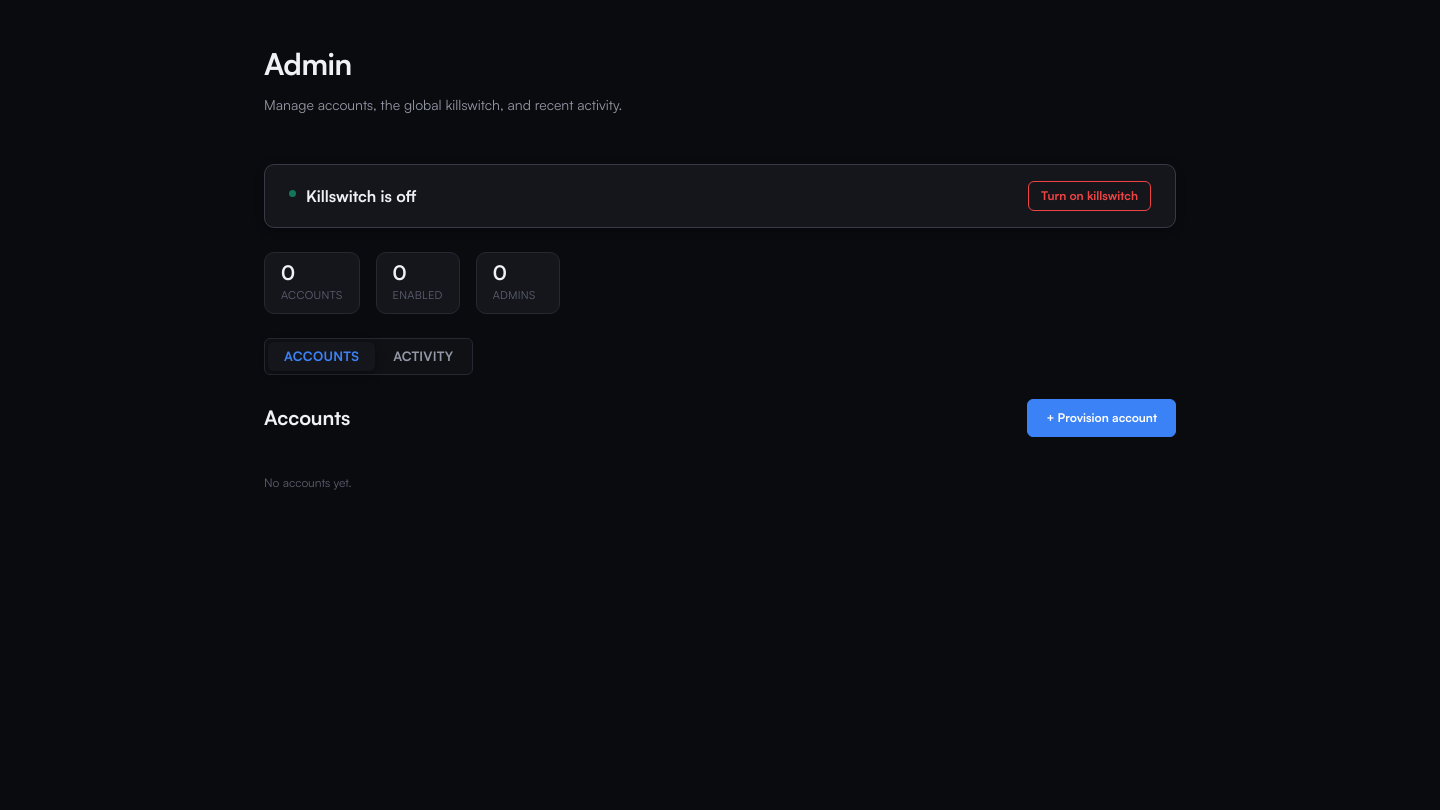
AdminView › opens the provision modal, submits it with the entered payload, and prepends the new account
The image size is (1440, 810).
Check: the text "No accounts yet." is shown, box [264, 475, 352, 490]
Click the button "+ Provision account" at (1102, 418), box [1028, 399, 1176, 437]
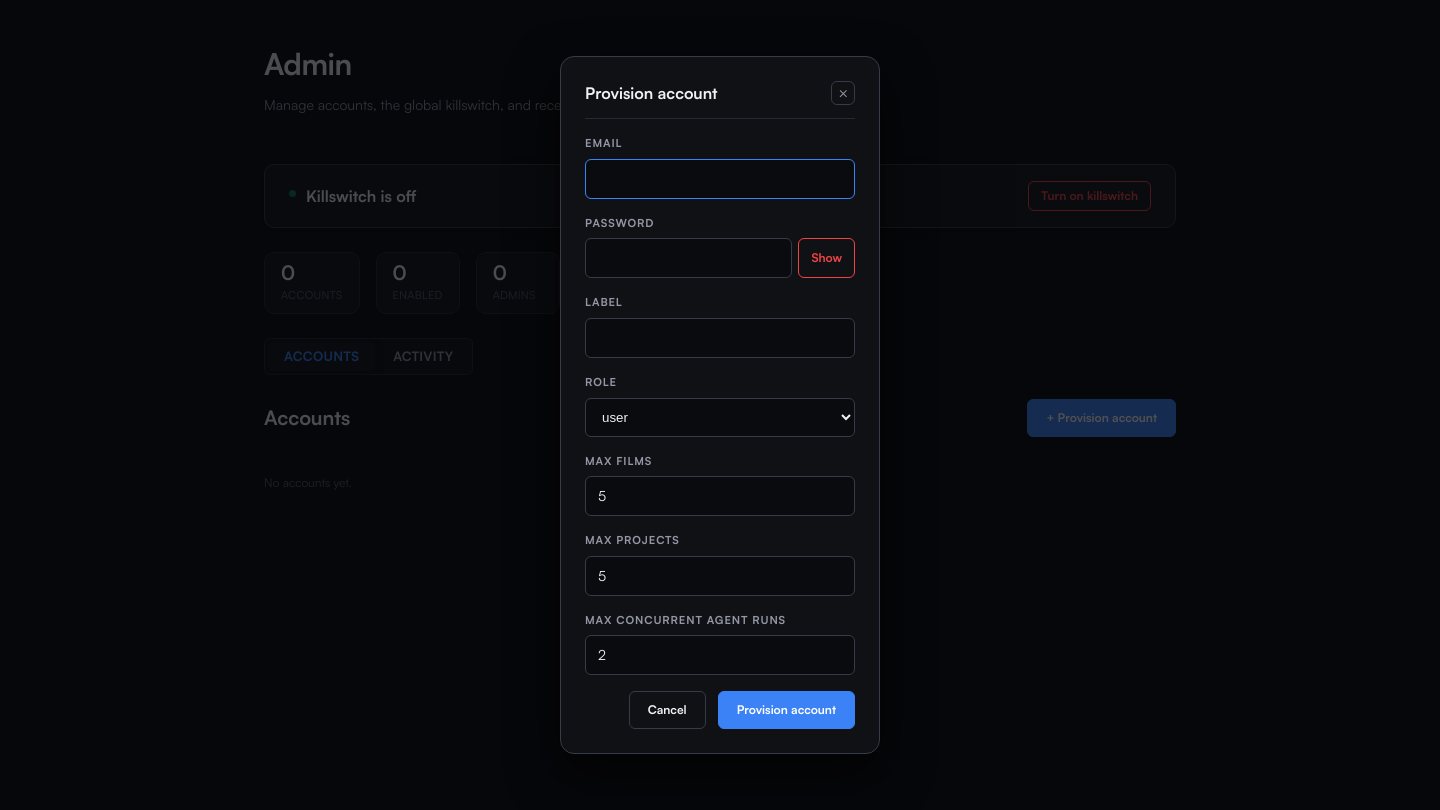
Type "bob@example.com" into the field labelled "Email" at (720, 179), box [585, 159, 855, 199]
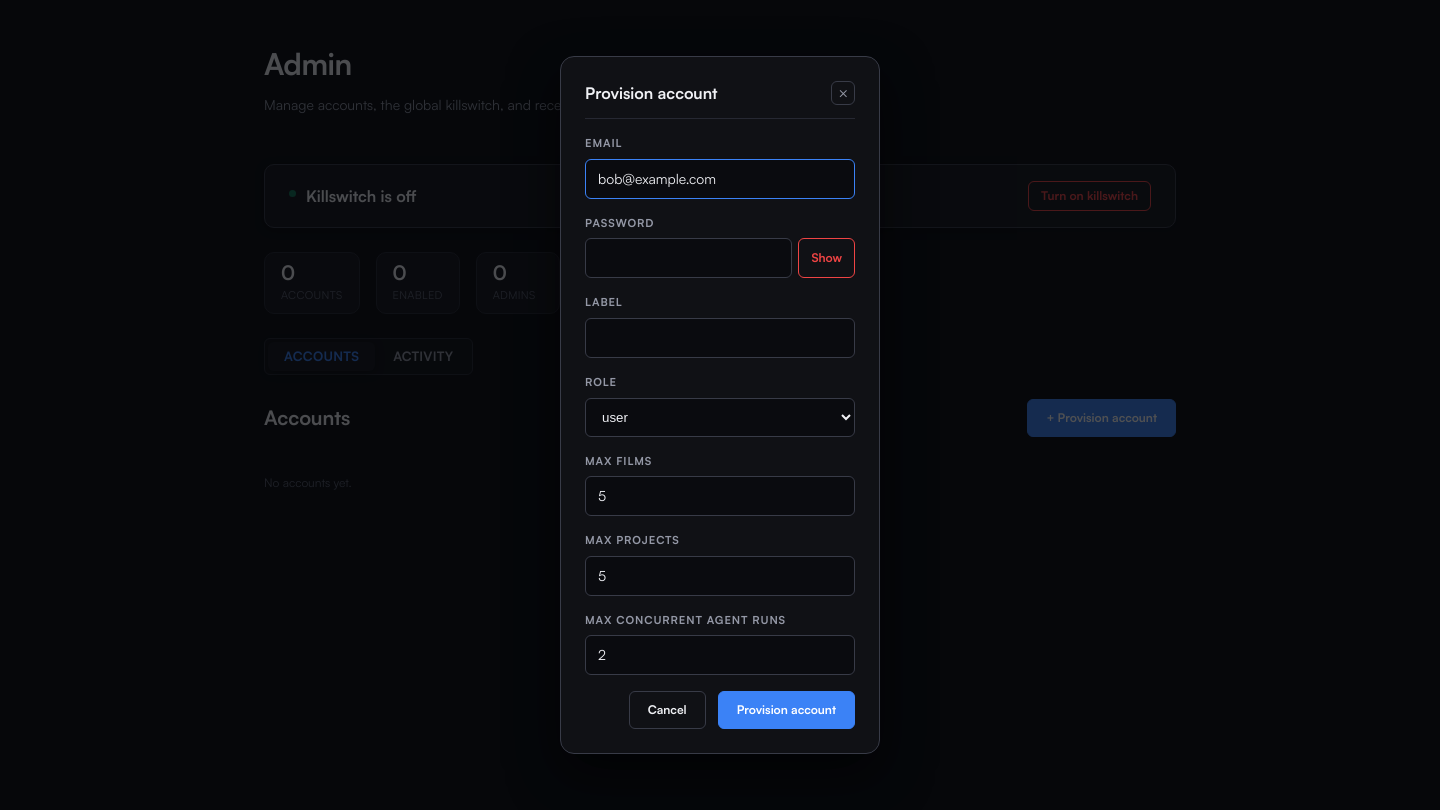
Type "hunter2" into the password field labelled "Password" at (689, 258), box [585, 238, 792, 278]
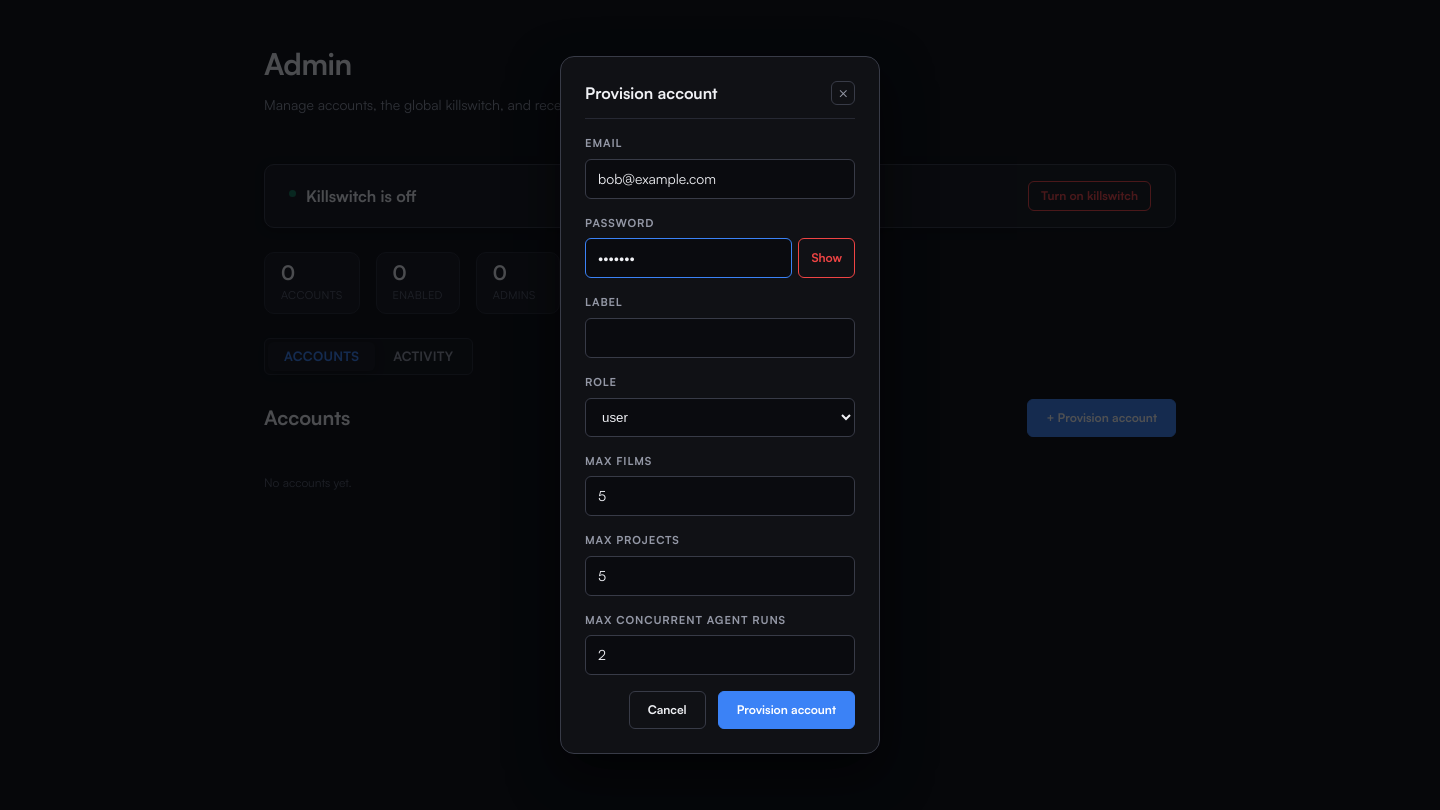
Type "Bob" into the field labelled "Label" at (720, 338), box [585, 318, 855, 358]
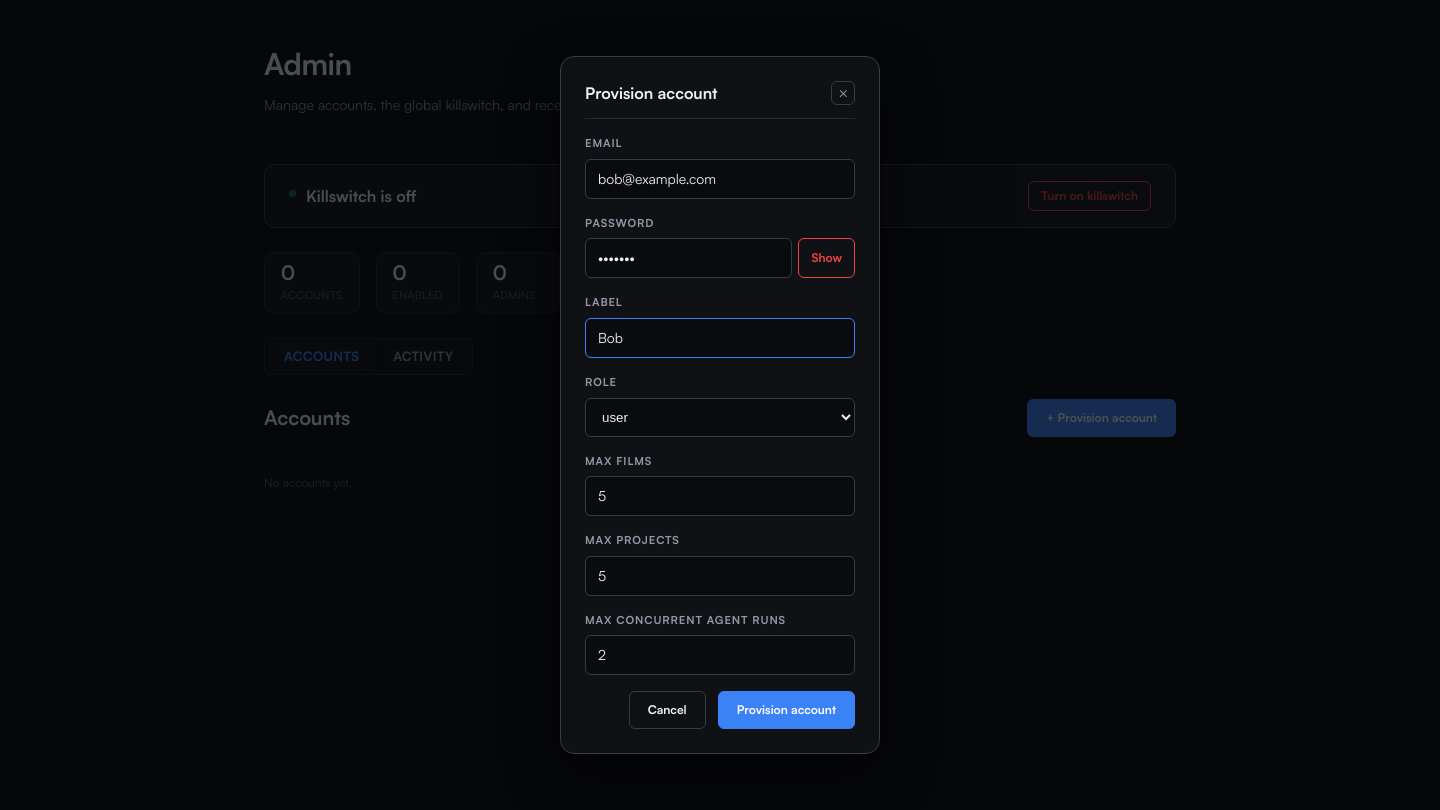
Select "admin" in the dropdown labelled "Role" at (720, 417), box [585, 398, 855, 437]
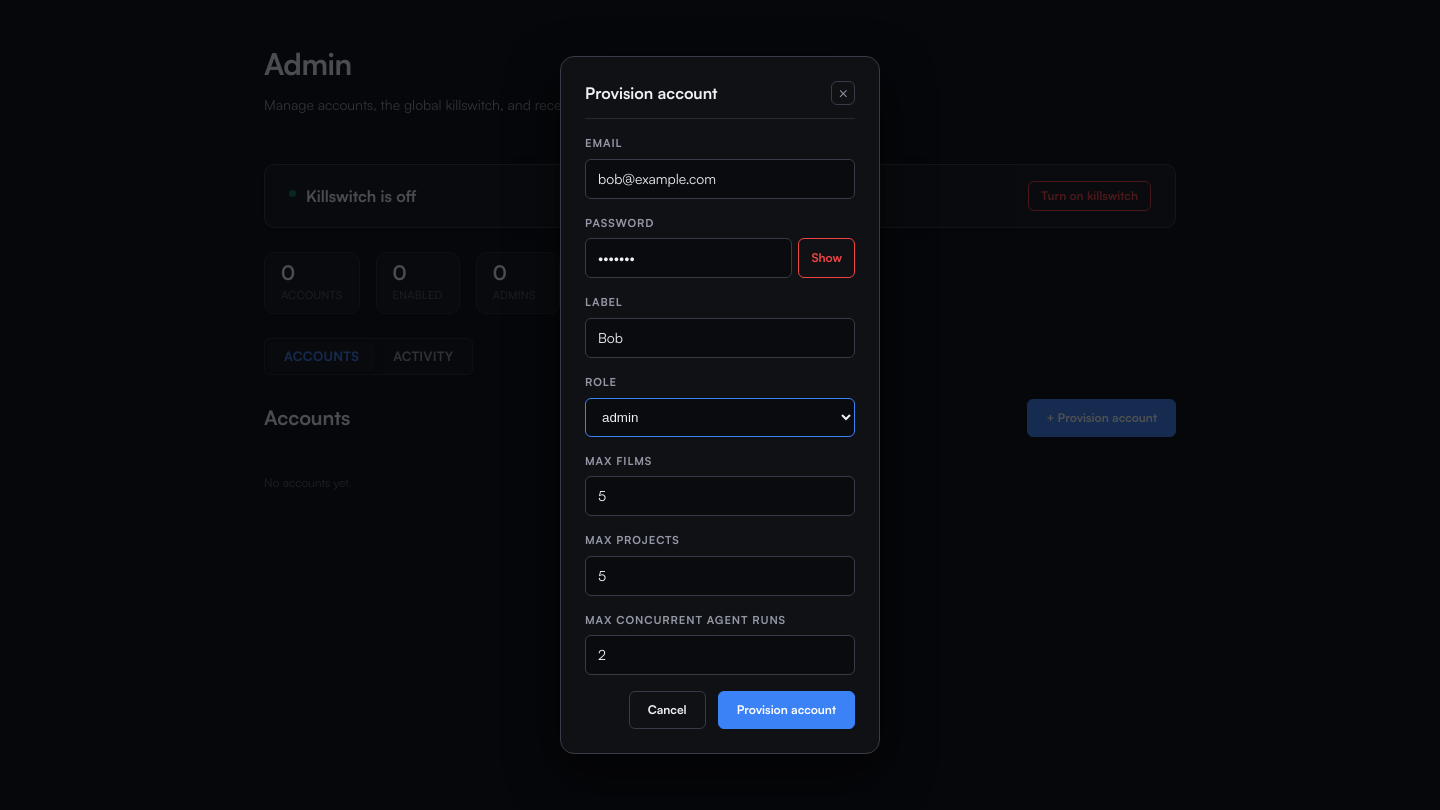
Click the button "Provision account" at (786, 710), box [718, 691, 855, 729]
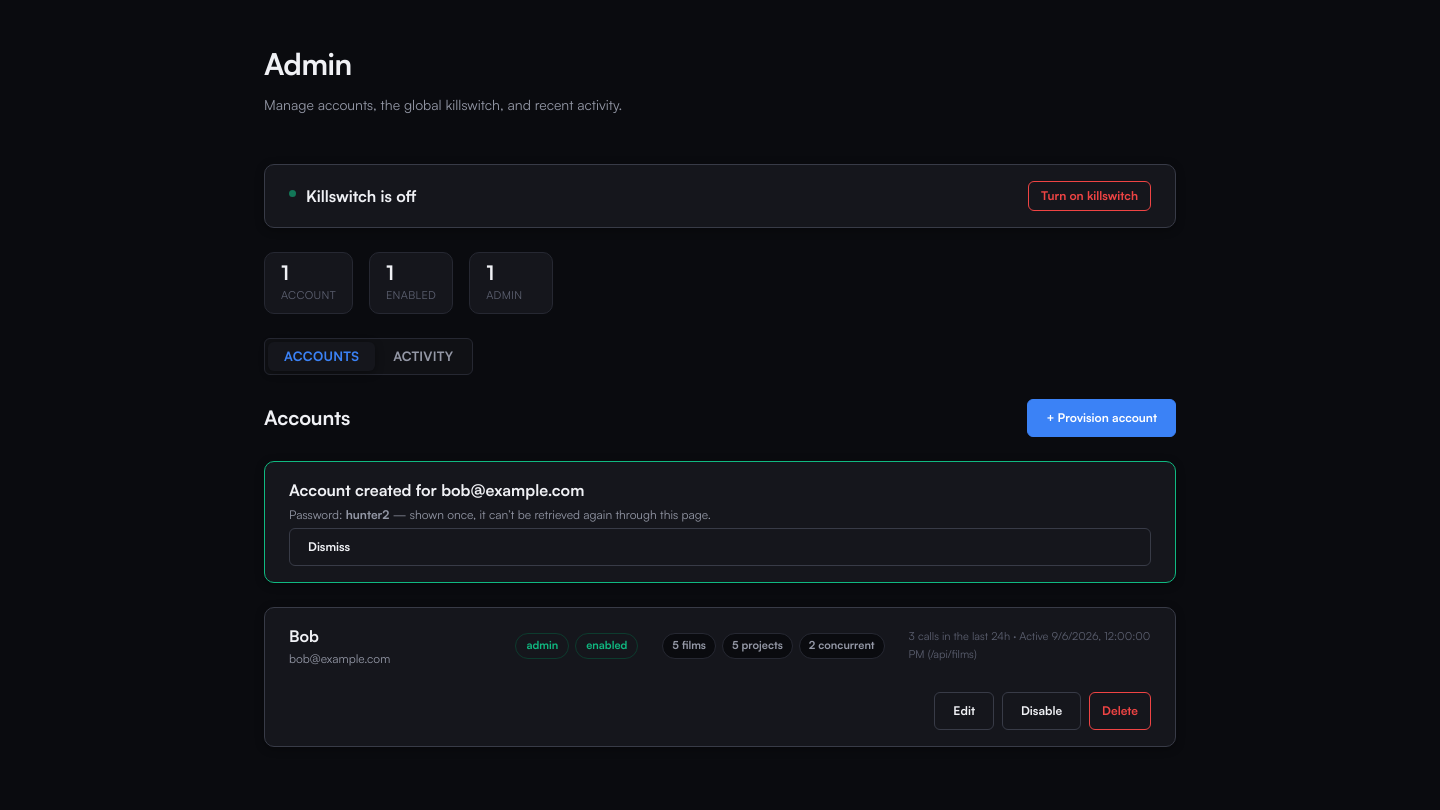
Check: the text "Bob" is shown, box [289, 626, 319, 646]
Check: the text "Account created for bob@example.com" is shown, box [289, 480, 584, 500]
